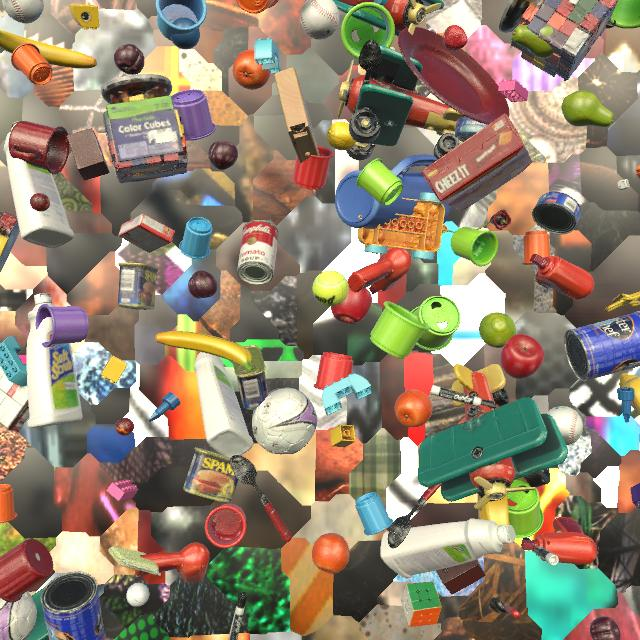ycb_002_master_chef_can: (564, 311, 640, 382), (41, 571, 106, 640)
ycb_003_cracker_box: (421, 114, 532, 211)
ycb_004_sugar_box: (0, 48, 4, 53)
ycb_005_tomato_soup_can: (237, 220, 279, 285)
ycb_006_mustard_bottle: (477, 493, 510, 526), (619, 373, 640, 416)
ycb_007_tuna_fish_can: (532, 192, 581, 234), (455, 117, 487, 142)
ycb_008_pudding_box: (0, 366, 29, 432), (100, 636, 115, 640)
ycb_009_gelatin_box: (118, 213, 175, 253)
ycb_010_potted_meat_can: (183, 447, 246, 503), (232, 345, 268, 410), (118, 262, 159, 310)
ycb_011_banana: (155, 331, 253, 371), (0, 30, 97, 69)
ycb_012_strawberry: (443, 25, 468, 51)
ycb_013_apple: (500, 334, 544, 379), (331, 281, 372, 324)
ycb_014_lemon: (326, 122, 356, 150)
ycb_016_pear: (561, 90, 614, 127), (512, 25, 554, 58), (479, 313, 516, 348)
ycb_017_orange: (312, 533, 350, 574), (233, 49, 271, 90), (395, 389, 433, 428)
ycb_018_plum: (114, 44, 145, 75), (188, 270, 218, 299), (208, 141, 238, 170), (590, 616, 621, 640)
